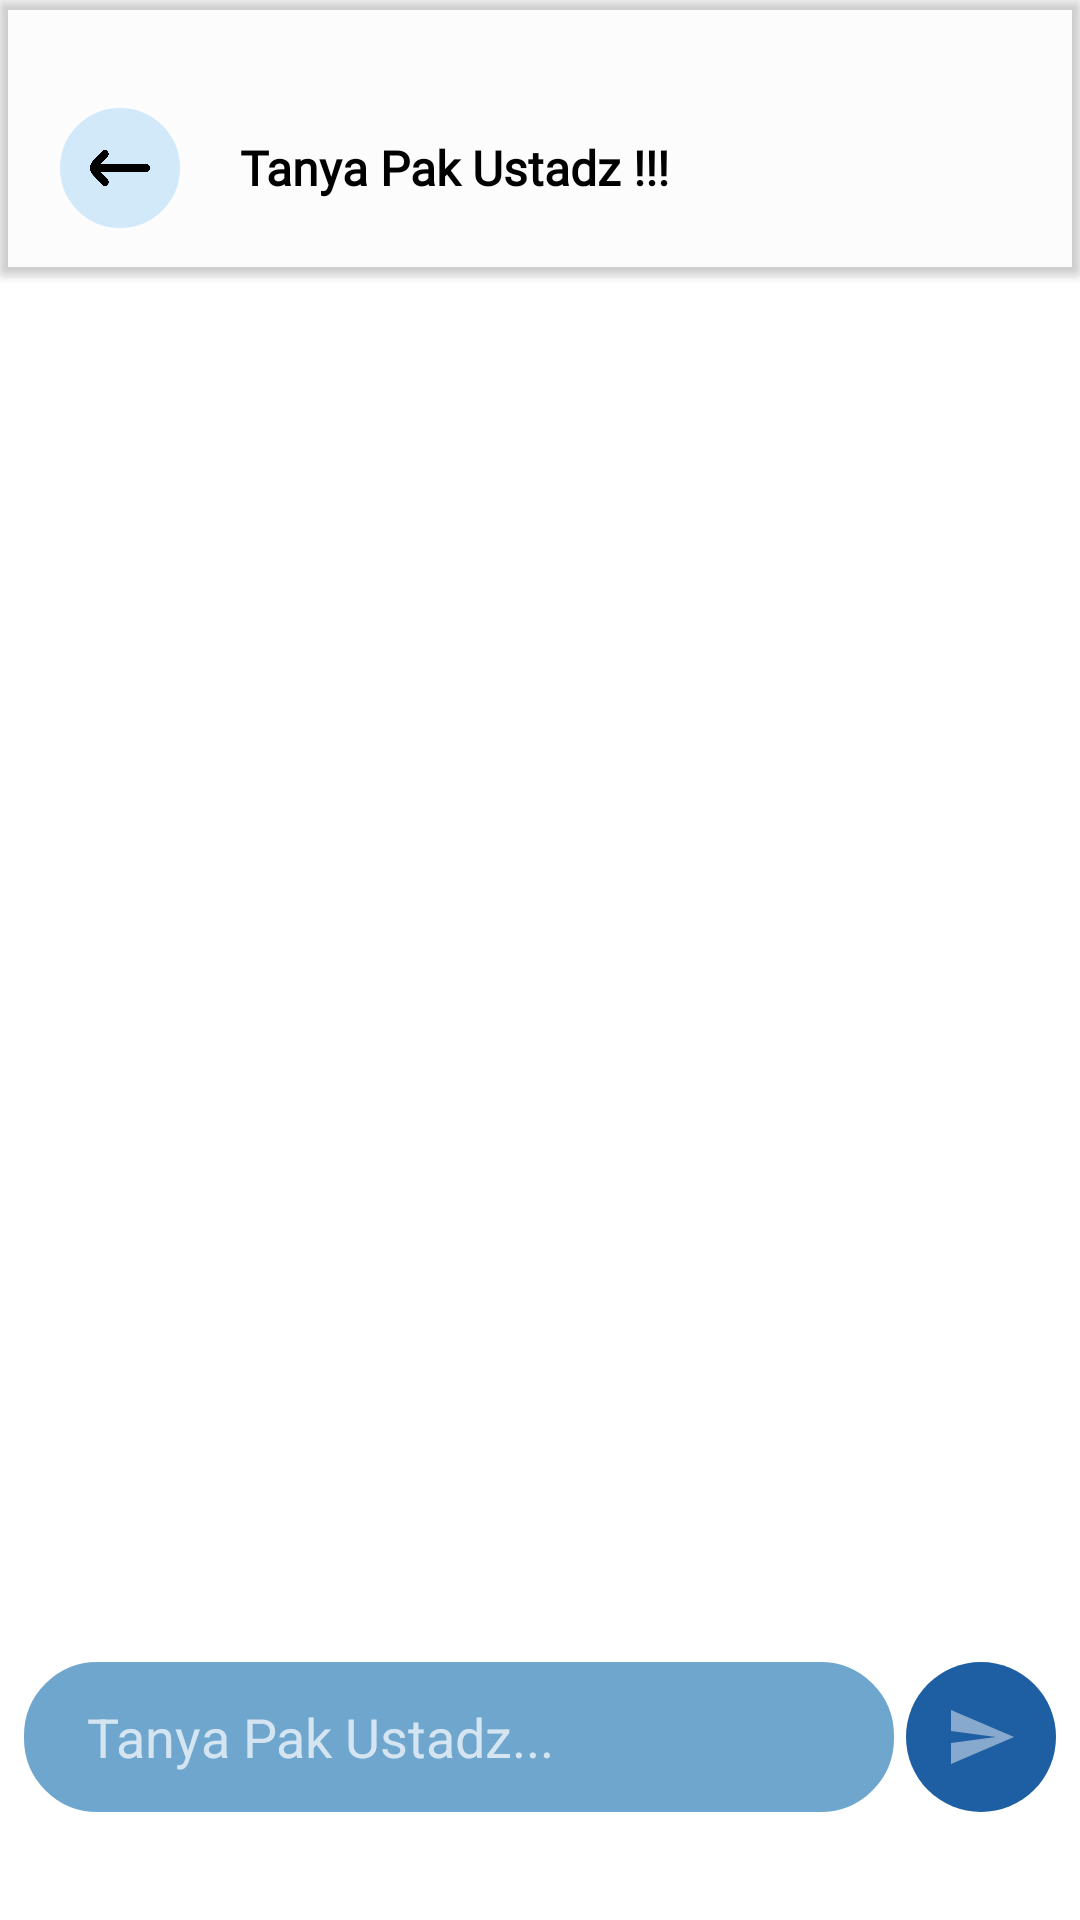

Point at icon controls on the screen. Image size 1080*1920, points as (x,y).
Kirim Pesan: (981,1737)
